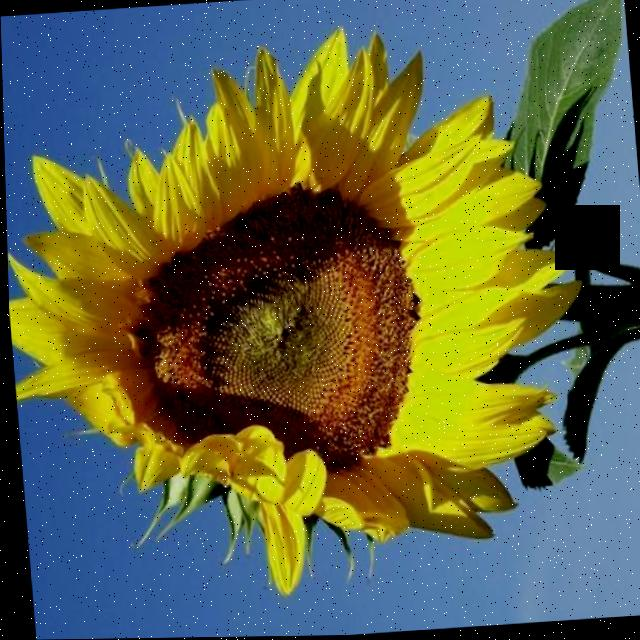sunflower: (8, 73, 640, 600)
